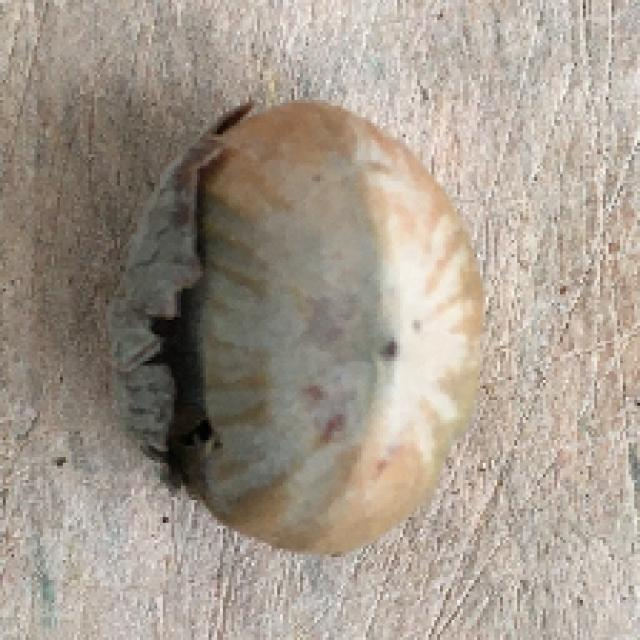damagedHazelnut: (83, 86, 493, 559)
